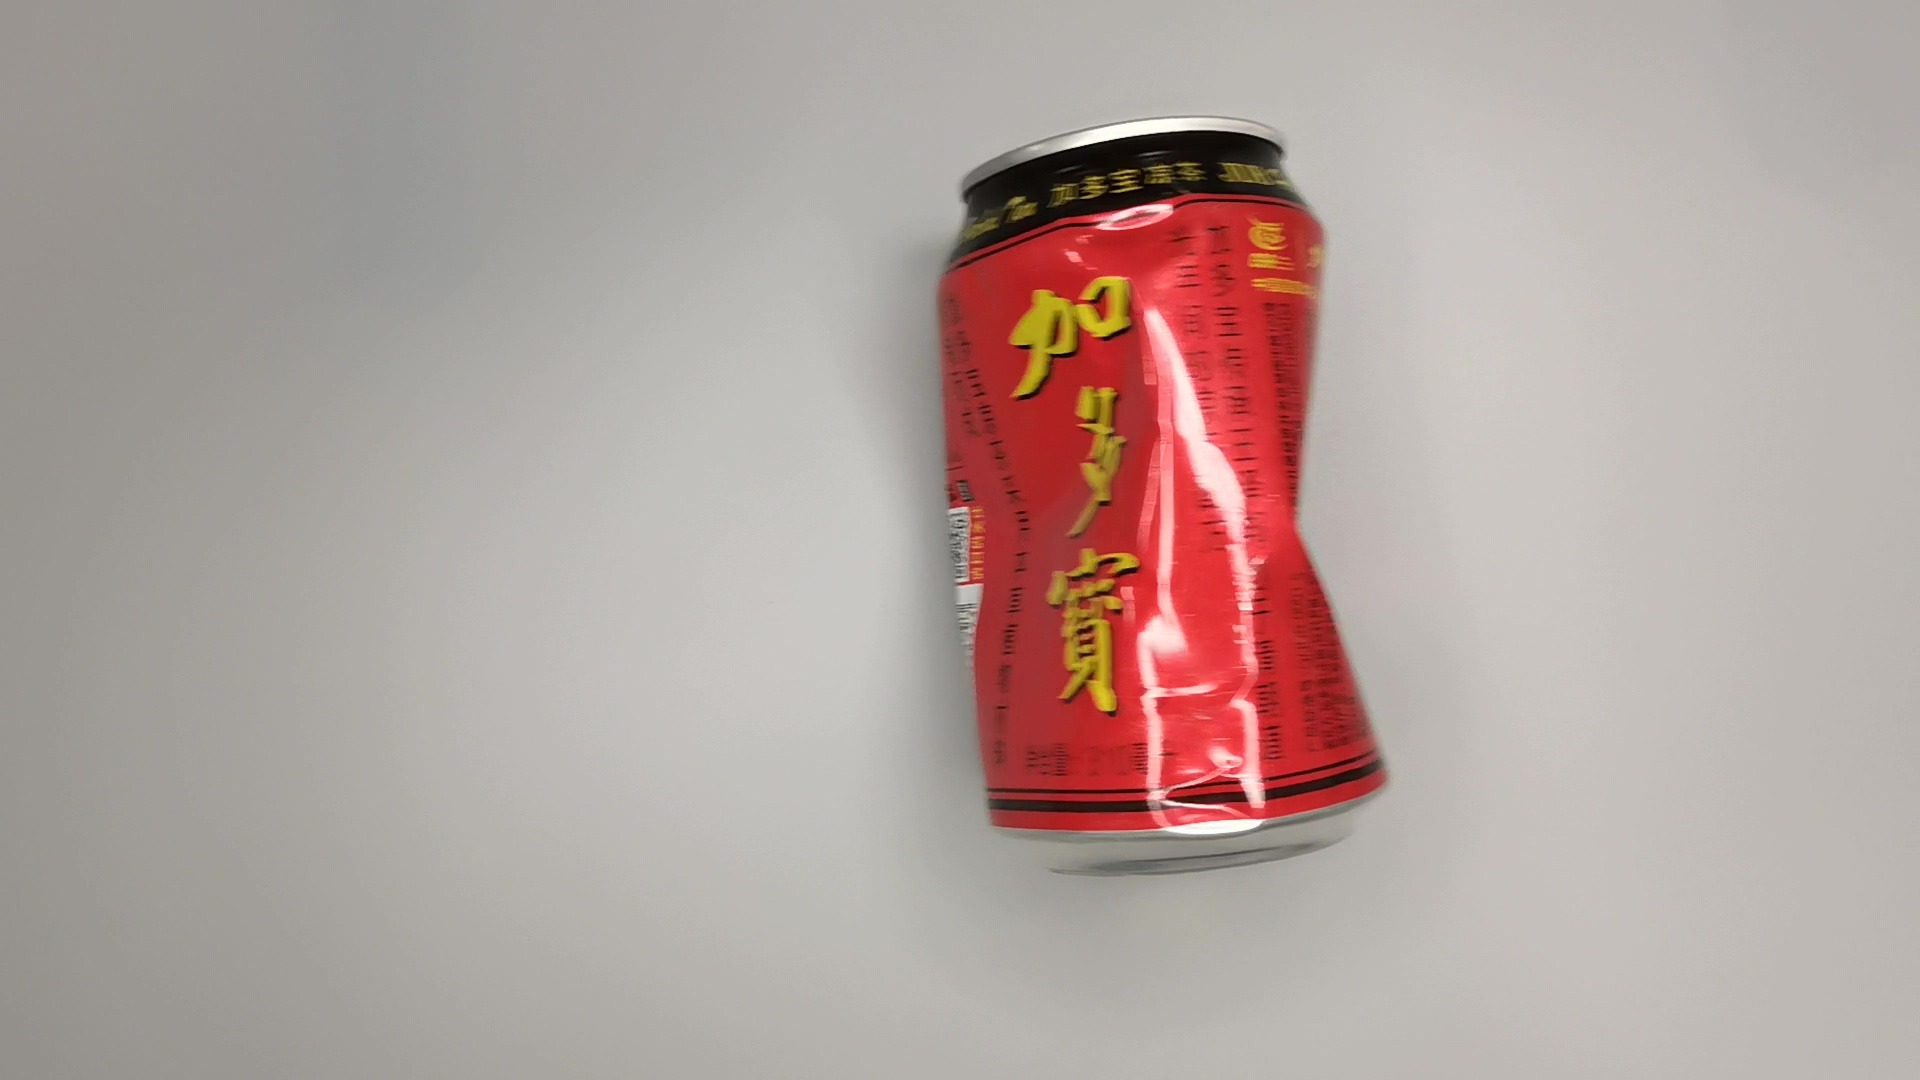can: (926, 95, 1407, 886)
